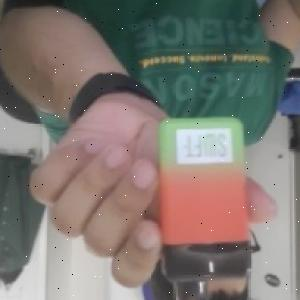Swift-E-Ciggirate: (151, 115, 247, 300)
